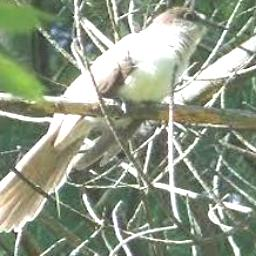Cuckoo: (0, 7, 230, 232)
